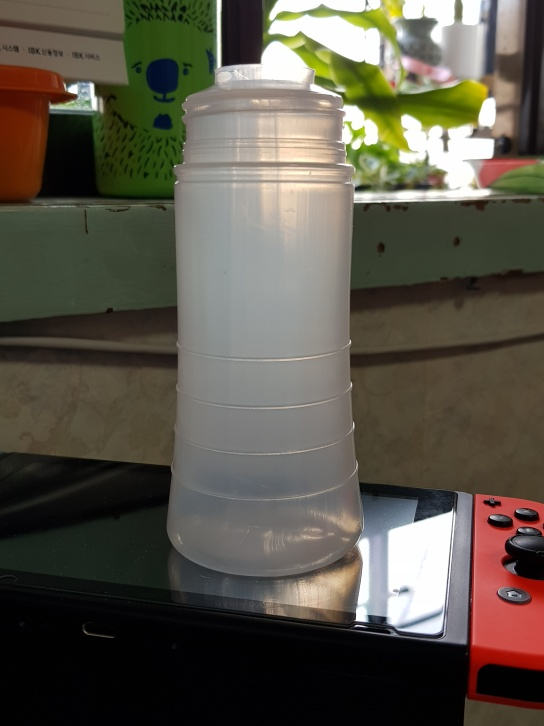Plastic: (164, 62, 367, 575)
